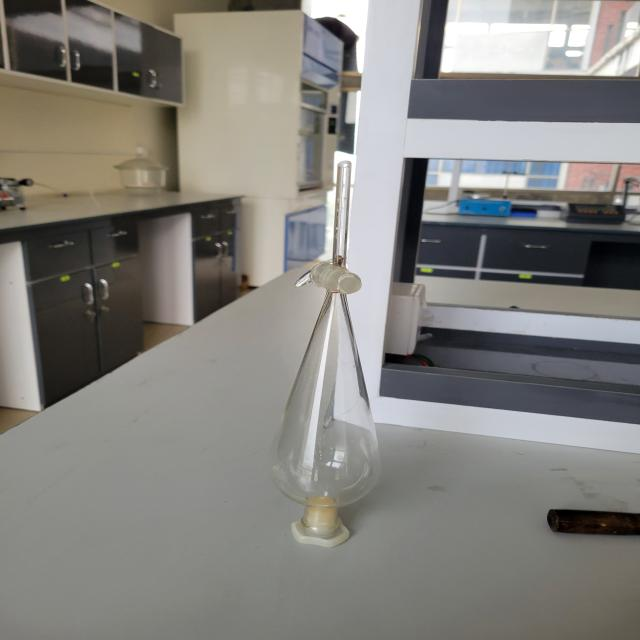Separating_Funnel: (225, 142, 441, 577)
